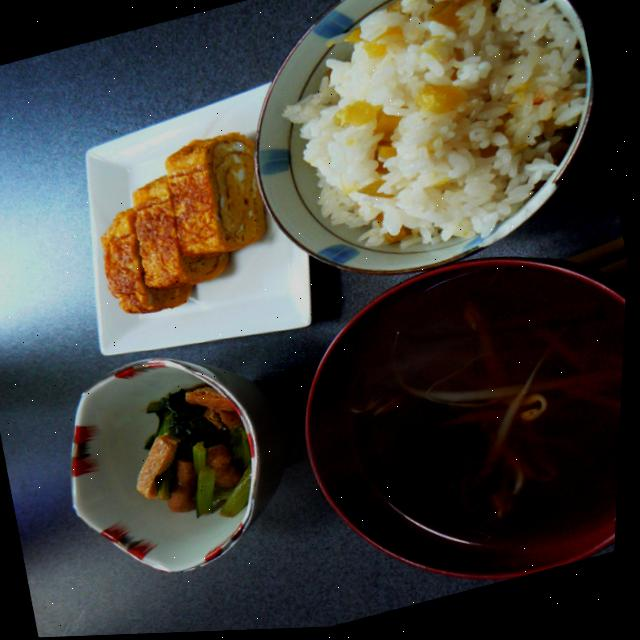汤锅炖物: (271, 225, 631, 629)
米饭主食: (237, 0, 626, 290)
鸡蛋料理: (46, 127, 297, 343)
